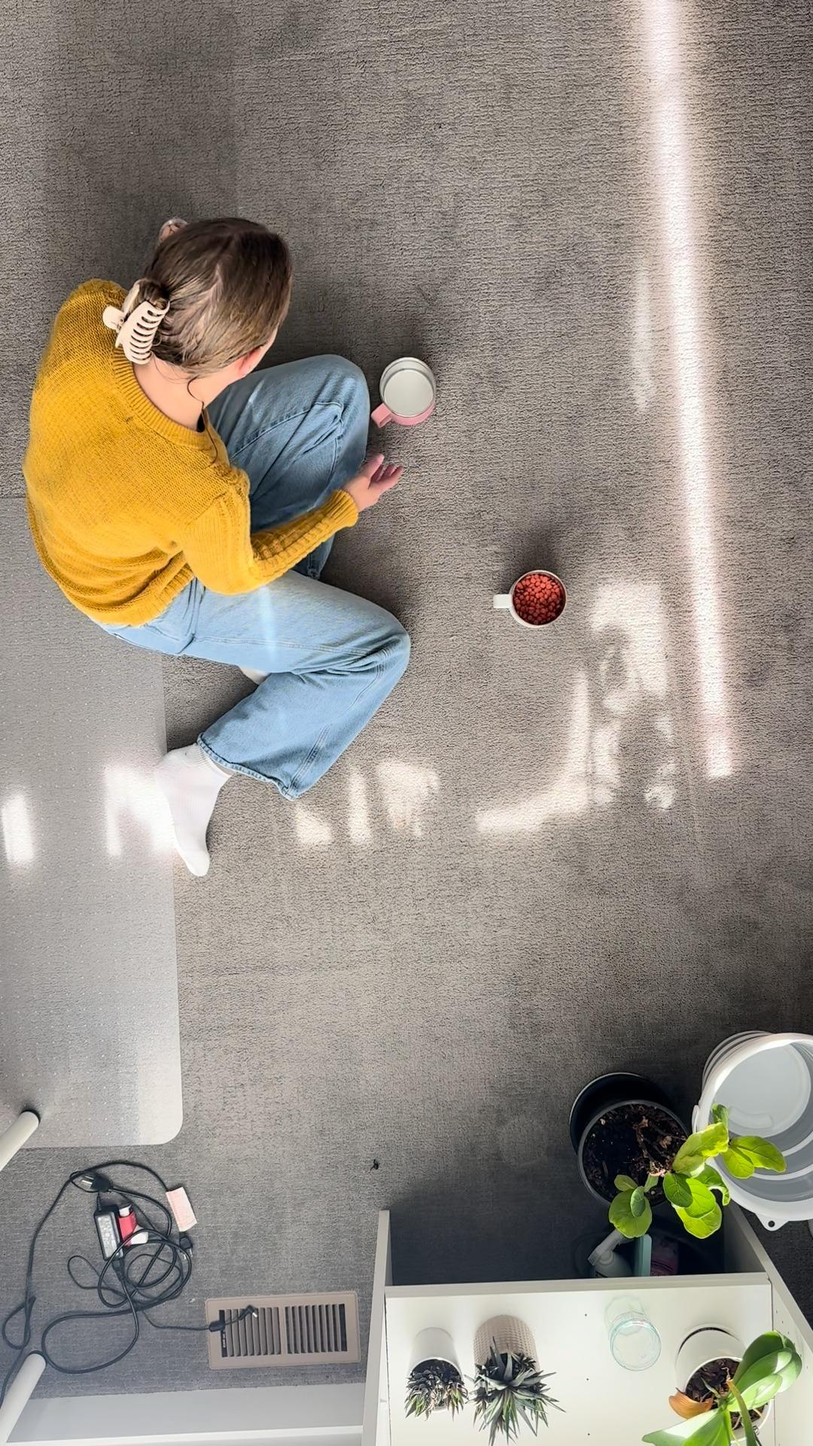IBC: (492, 560, 582, 635), (366, 349, 443, 432)
